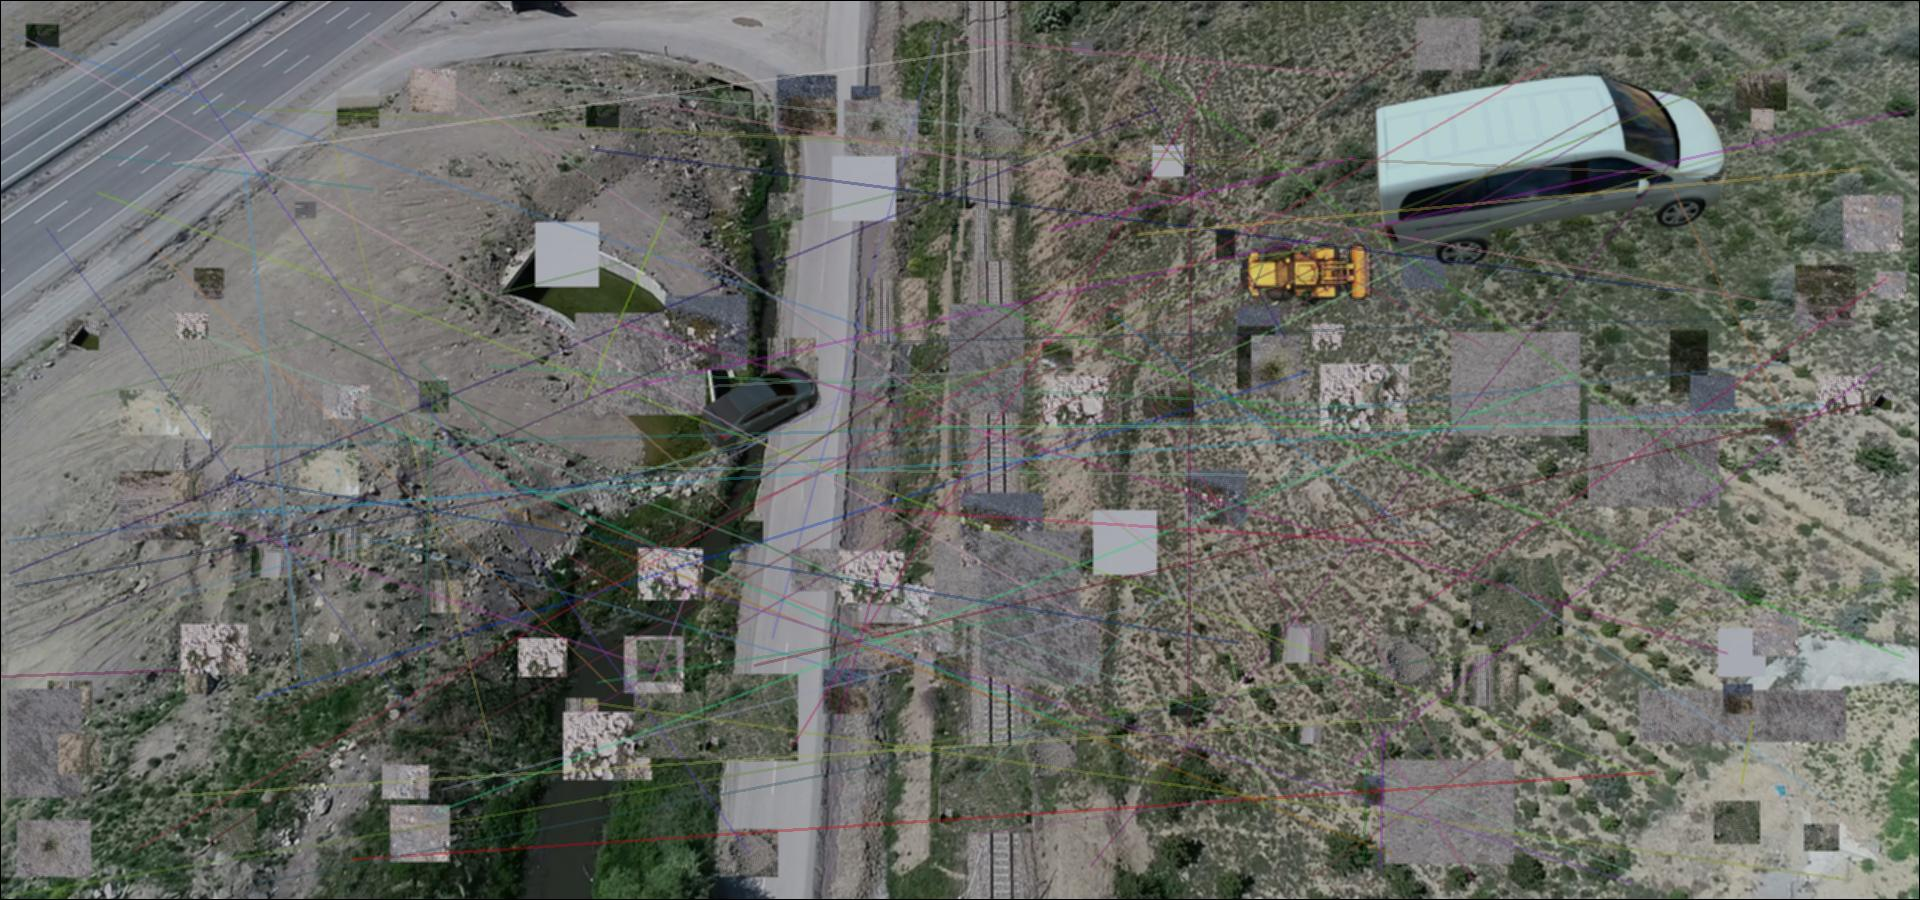arac: (1365, 73, 1730, 264), (698, 362, 822, 452), (1238, 240, 1375, 302)
